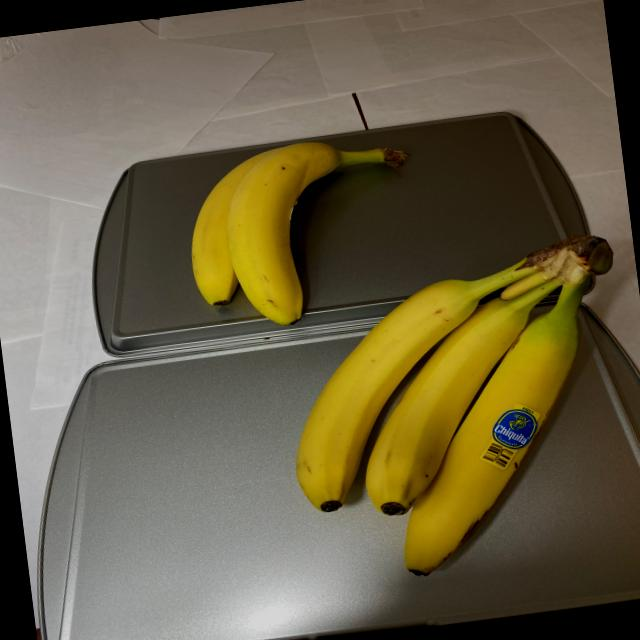banana: (265, 229, 640, 596), (168, 128, 432, 335)
